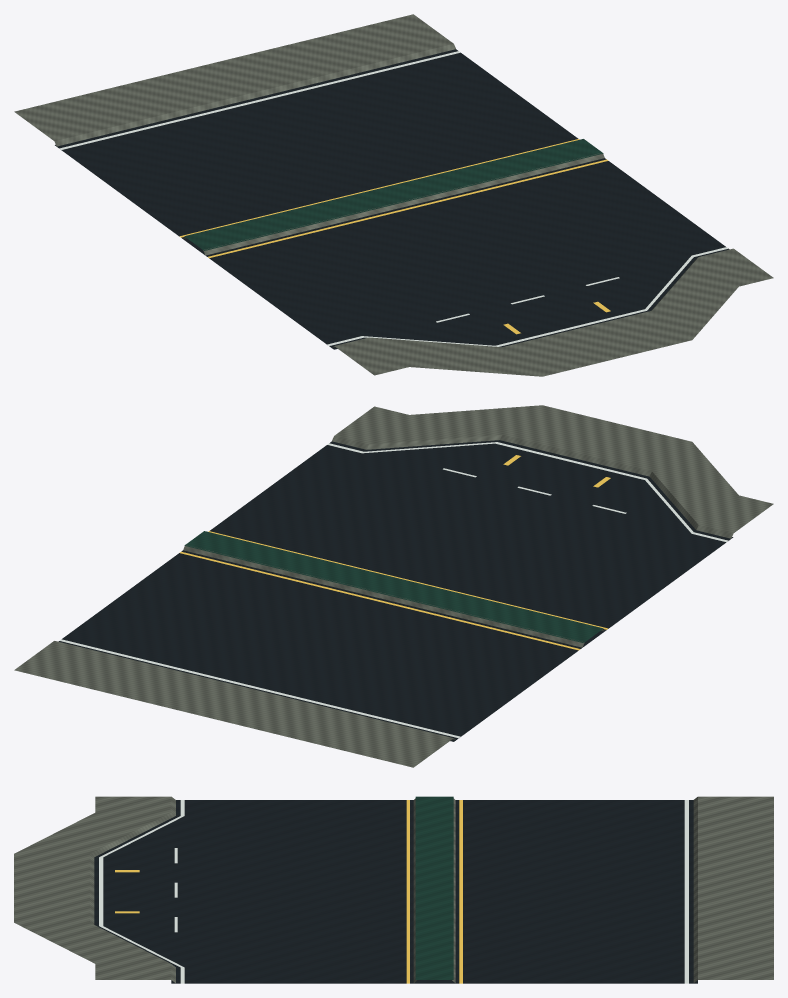
The model's file is road_arterial_6lane_16m_transit_bay_LOD2.glb.
3 renders of one model, top to bottom at view 1: azimuth 30°, elevation 25°; view 2: azimuth 150°, elevation 25°; view 3: azimuth 270°, elevation 25°, orthographic. The views are drawn at different scales.
Visible parts, largest first — view 1: road_arterial_6lane_16m_transit_bay__surface.002, road_arterial_6lane_16m_transit_bay__markings.002; view 2: road_arterial_6lane_16m_transit_bay__surface.002, road_arterial_6lane_16m_transit_bay__markings.002; view 3: road_arterial_6lane_16m_transit_bay__surface.002, road_arterial_6lane_16m_transit_bay__markings.002.
Part boxes in pixels (<box>): road_arterial_6lane_16m_transit_bay__surface.002: <box>14,14,773,376</box>; road_arterial_6lane_16m_transit_bay__markings.002: <box>59,51,728,346</box>; road_arterial_6lane_16m_transit_bay__surface.002: <box>14,405,773,767</box>; road_arterial_6lane_16m_transit_bay__markings.002: <box>59,442,728,738</box>; road_arterial_6lane_16m_transit_bay__surface.002: <box>14,796,773,983</box>; road_arterial_6lane_16m_transit_bay__markings.002: <box>99,800,688,983</box>.
Bounding box in the file's own units: 16 × 0.15 × 28.
6 materials, 4 textured.
